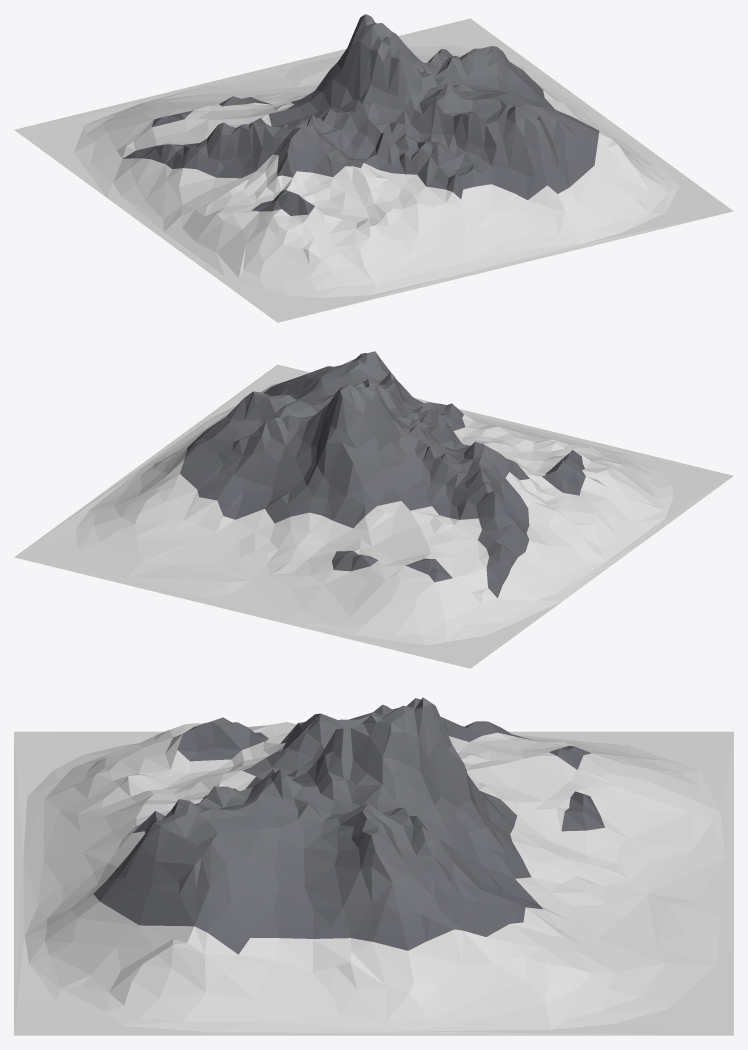
File: Landscape_09.fbx
3 views of the same model, one above another, from view 1: azimuth 30°, elevation 25°; view 2: azimuth 150°, elevation 25°; view 3: azimuth 270°, elevation 25° (orthographic). The views are drawn at different scales.
Parts seen in each view (by area): view 1: Landscape_09; view 2: Landscape_09; view 3: Landscape_09.
Part boxes in pixels (left/top/right/bottom): Landscape_09: left=14, top=14, right=733, bottom=322; Landscape_09: left=14, top=351, right=733, bottom=668; Landscape_09: left=14, top=697, right=733, bottom=1035.
Size of the model in its own units: 10000 by 2953 by 10000.
